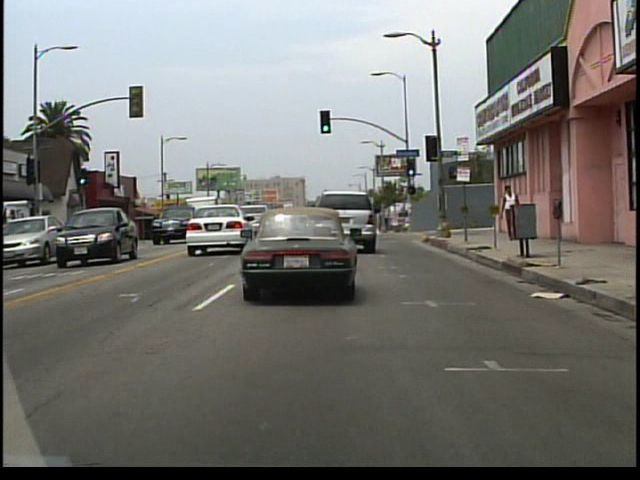person: (497, 181, 525, 245)
